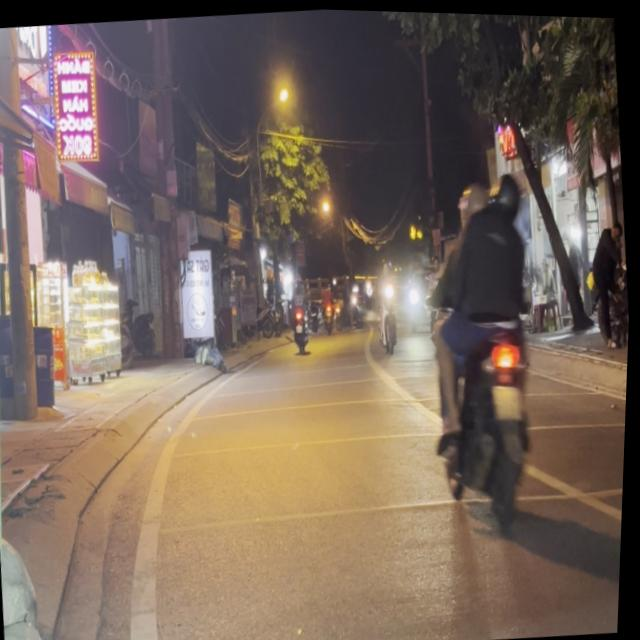licenseplate: (406, 125, 561, 527)
motorcyclist: (493, 161, 531, 218)
nohelmet: (494, 378, 528, 415)
